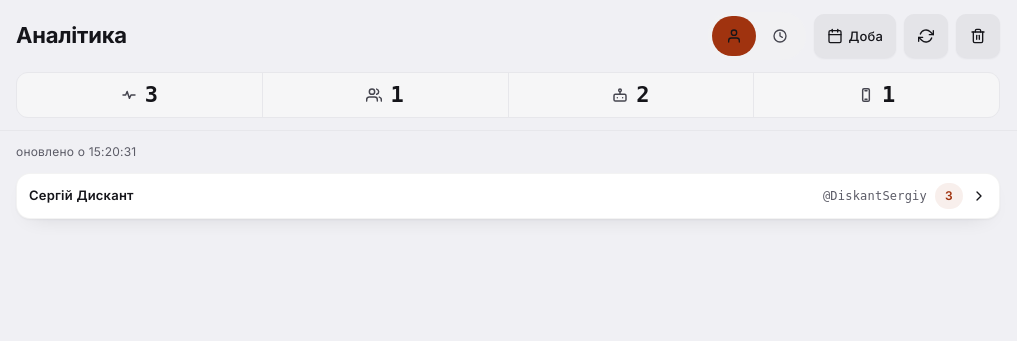
Test: екран «Аналітика» › розгортає людину й тягне саме її дії
This screenshot has width=1017, height=341.
Step 1. Click the button "Сергій Дискант @DiskantSergiy 3" → (81, 195), box [17, 174, 999, 218]
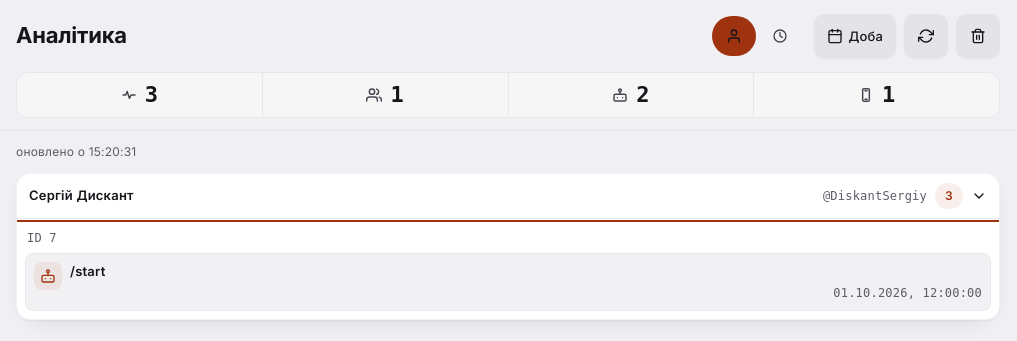
Now the text "/start" is shown, box [70, 263, 105, 279]
Now the text "ID 7" is shown, box [27, 231, 57, 245]
// Повторний дотик закриває акордеон, а не тягне ті самі дії вдруге.
Step 2. Click the button "Сергій Дискант @DiskantSergiy 3" → (81, 195), box [17, 174, 999, 218]
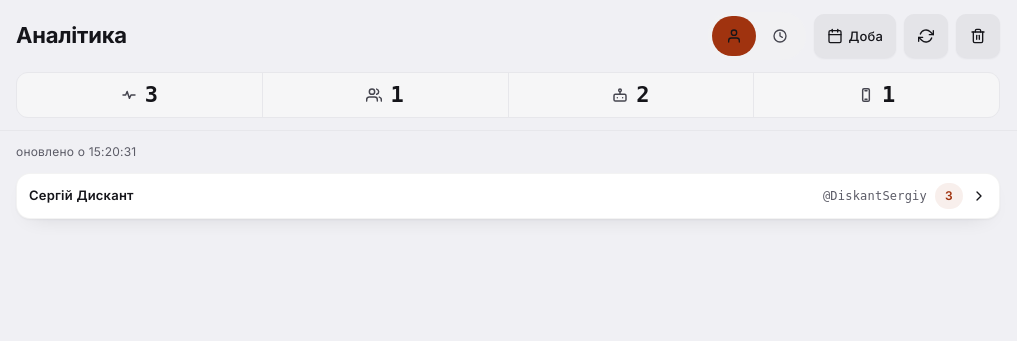
Now the text "/start" is gone
